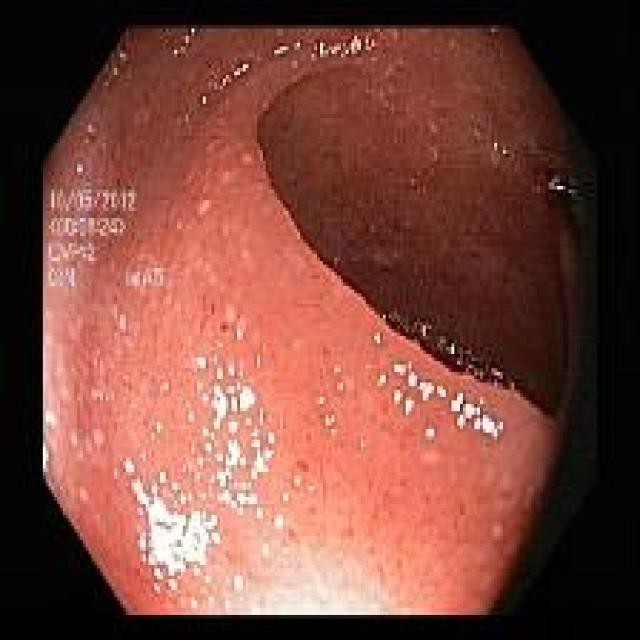ulcerative-colitis: (44, 28, 596, 615)
